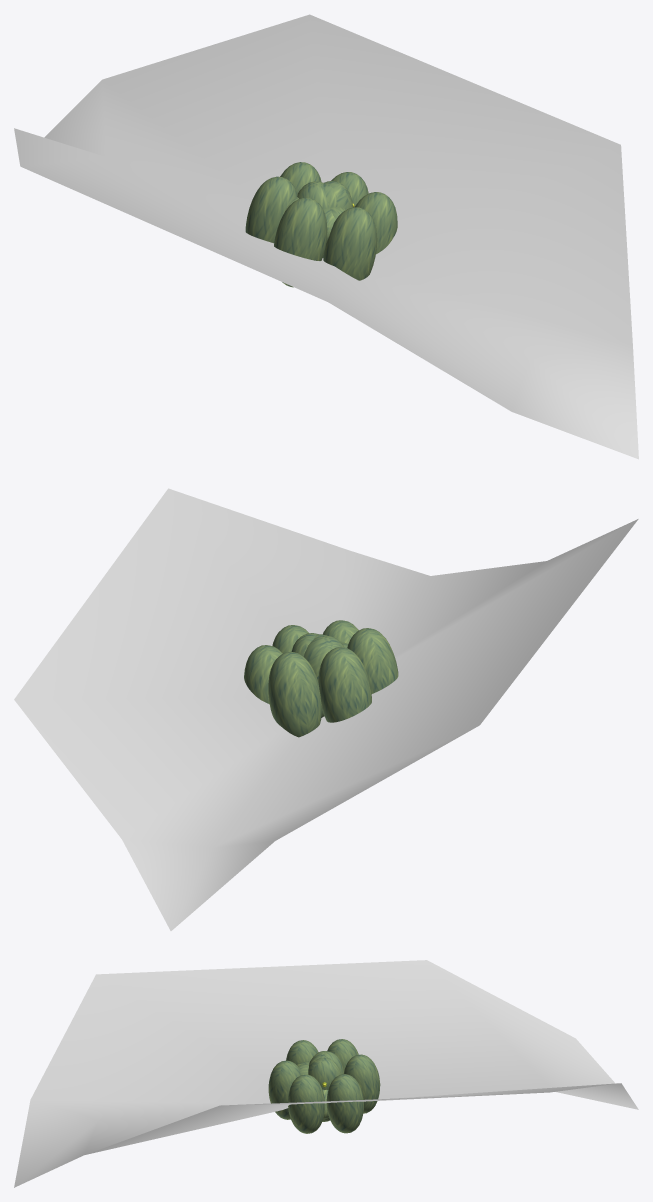
The model's file is Rill.fbx.
The picture shows the model from 3 angles, top to bottom: view 1: azimuth 30°, elevation 25°; view 2: azimuth 150°, elevation 25°; view 3: azimuth 270°, elevation 25°; orthographic projection. The views are drawn at different scales.
Parts seen in each view (by area): view 1: pPlane2_lambert1_0.002, pCube2_lambert8_0.007; view 2: pPlane2_lambert1_0.002, pCube2_lambert8_0.007, pCube2_lambert8_0.013; view 3: pPlane2_lambert1_0.002, pCube2_lambert8_0.007, pCube2_lambert8_0.011.
Boxes of the visible parts, bbox=[...] form: pPlane2_lambert1_0.002: bbox=[14, 14, 638, 459]; pCube2_lambert8_0.007: bbox=[245, 162, 397, 287]; pPlane2_lambert1_0.002: bbox=[14, 488, 638, 930]; pCube2_lambert8_0.007: bbox=[244, 620, 398, 737]; pCube2_lambert8_0.013: bbox=[303, 636, 332, 677]; pPlane2_lambert1_0.002: bbox=[14, 960, 638, 1187]; pCube2_lambert8_0.007: bbox=[268, 1039, 380, 1133]; pCube2_lambert8_0.011: bbox=[308, 1057, 341, 1089].
Bounding box in the file's own units: 7.56 × 2.82 × 12.64.
Materials: 5 (3 with a texture image).
